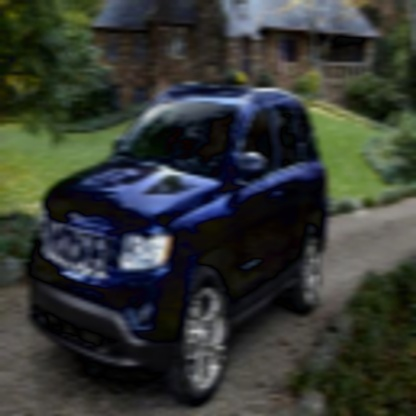Vehicle: (28, 83, 330, 409)
